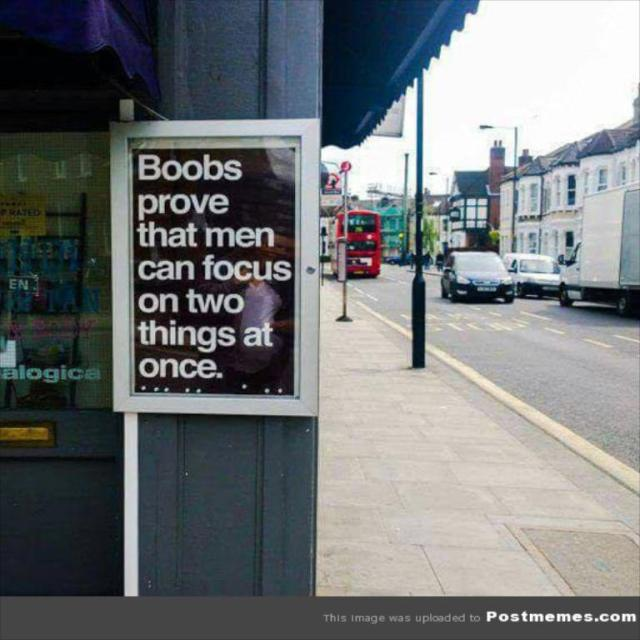car: (441, 248, 516, 303)
